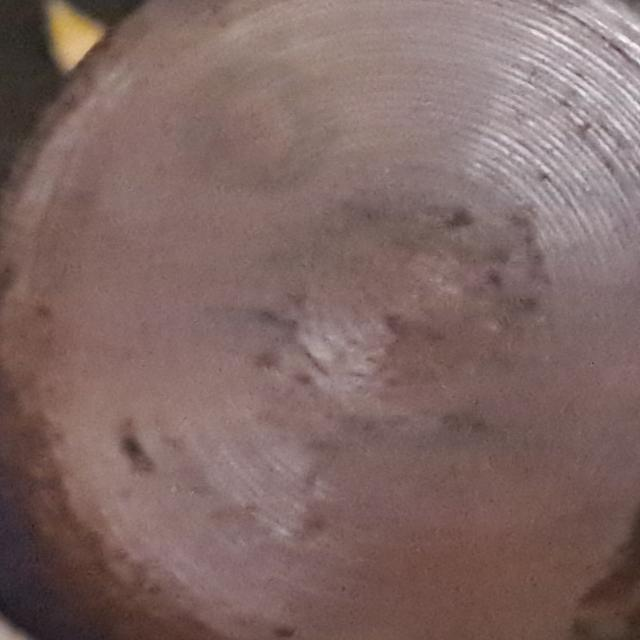defect: (169, 46, 352, 208)
planson: (0, 0, 640, 640)
